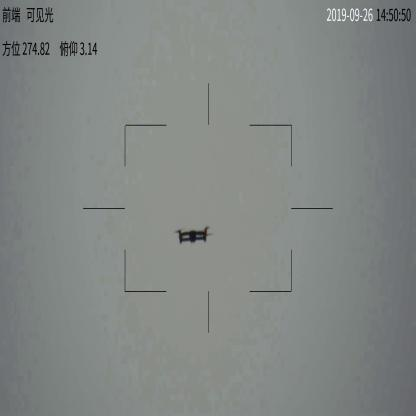uav: (172, 221, 213, 245)
